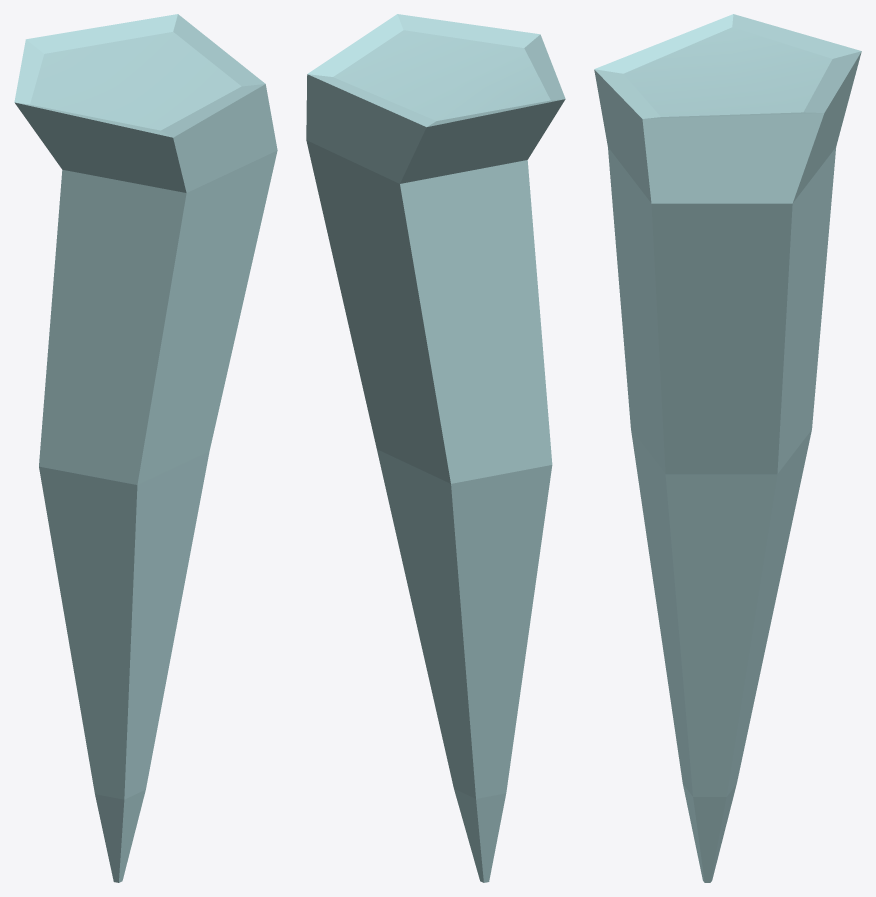
File: stalagtite03.fbx
3 renders of one model, left to right at view 1: azimuth 30°, elevation 25°; view 2: azimuth 150°, elevation 25°; view 3: azimuth 270°, elevation 25°, orthographic. The views are drawn at different scales.
Visible parts, largest first — view 1: Stalactite3; view 2: Stalactite3; view 3: Stalactite3.
Part boxes in pixels (x1,y1,x2,y2): Stalactite3: (14,14,277,882); Stalactite3: (306,14,565,882); Stalactite3: (594,14,861,882).
Size of the model in its own units: 92.06 by 314 by 91.95.
